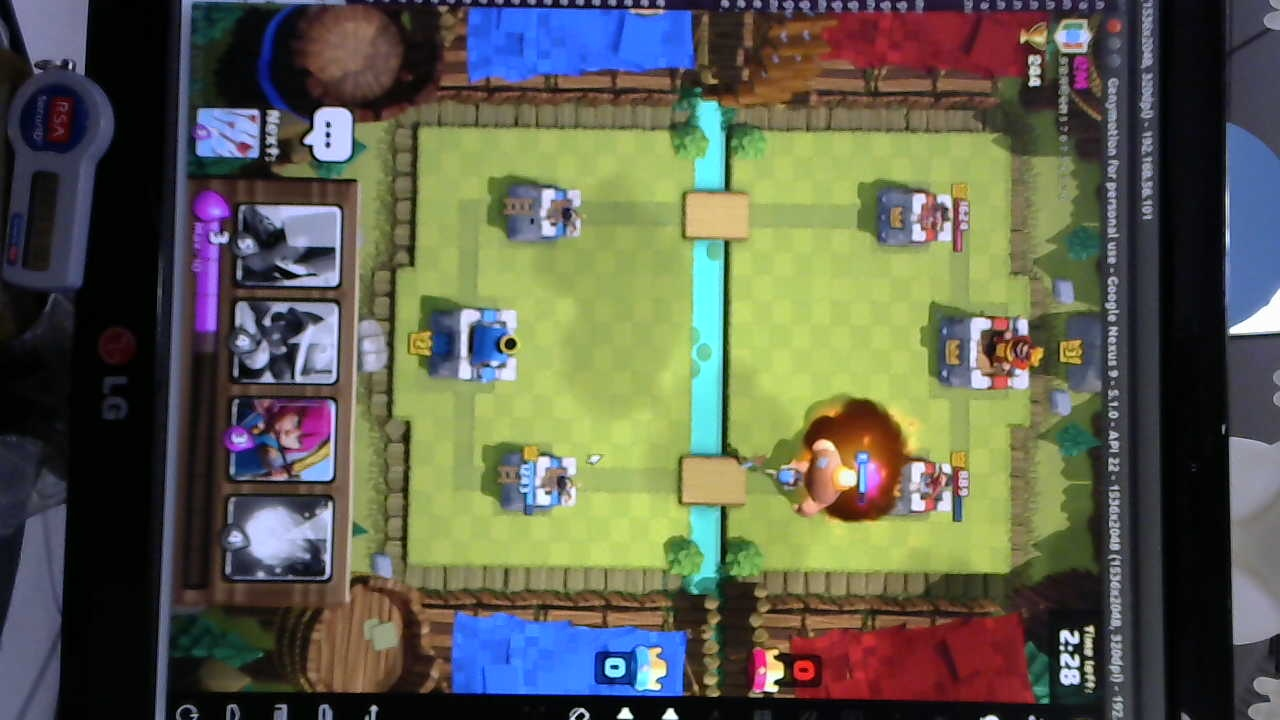arena: (501, 177, 583, 244), (501, 449, 577, 516)
bomb: (767, 469, 801, 490)
earena: (875, 185, 956, 249), (885, 455, 958, 521)
eking: (930, 311, 1038, 391)
giant: (801, 441, 856, 517)
king: (431, 303, 527, 389)
